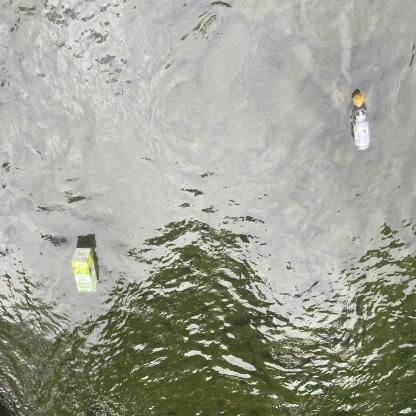Plastic: (349, 86, 376, 154)
